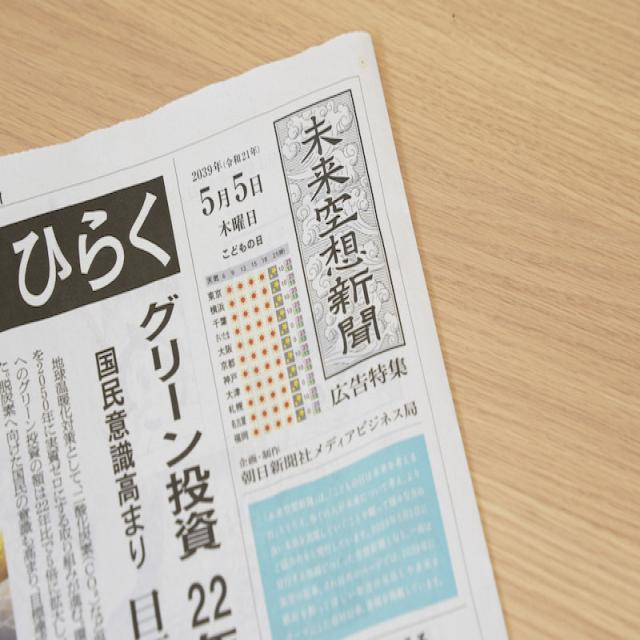newspaper: (0, 29, 500, 640)
